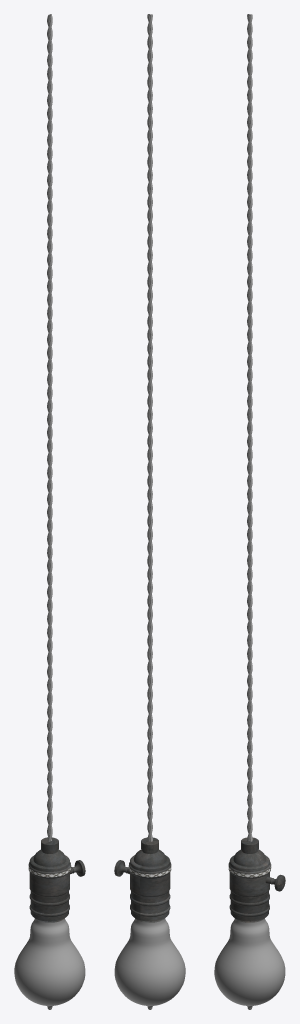
The model's file is light.obj.
3 renders of one model, left to right at view 1: azimuth 30°, elevation 25°; view 2: azimuth 150°, elevation 25°; view 3: azimuth 330°, elevation 25°, orthographic.
Parts seen in each view (by area): view 1: Edison_Vintage_Lamp_Free; view 2: Edison_Vintage_Lamp_Free; view 3: Edison_Vintage_Lamp_Free.
Boxes of the visible parts, <box> form: Edison_Vintage_Lamp_Free: <box>14,14,85,1009</box>; Edison_Vintage_Lamp_Free: <box>114,14,185,1009</box>; Edison_Vintage_Lamp_Free: <box>214,14,285,1009</box>.
Size of the model in its own units: 0.0775 by 1.15 by 0.0747.
7 materials, 2 textured.
